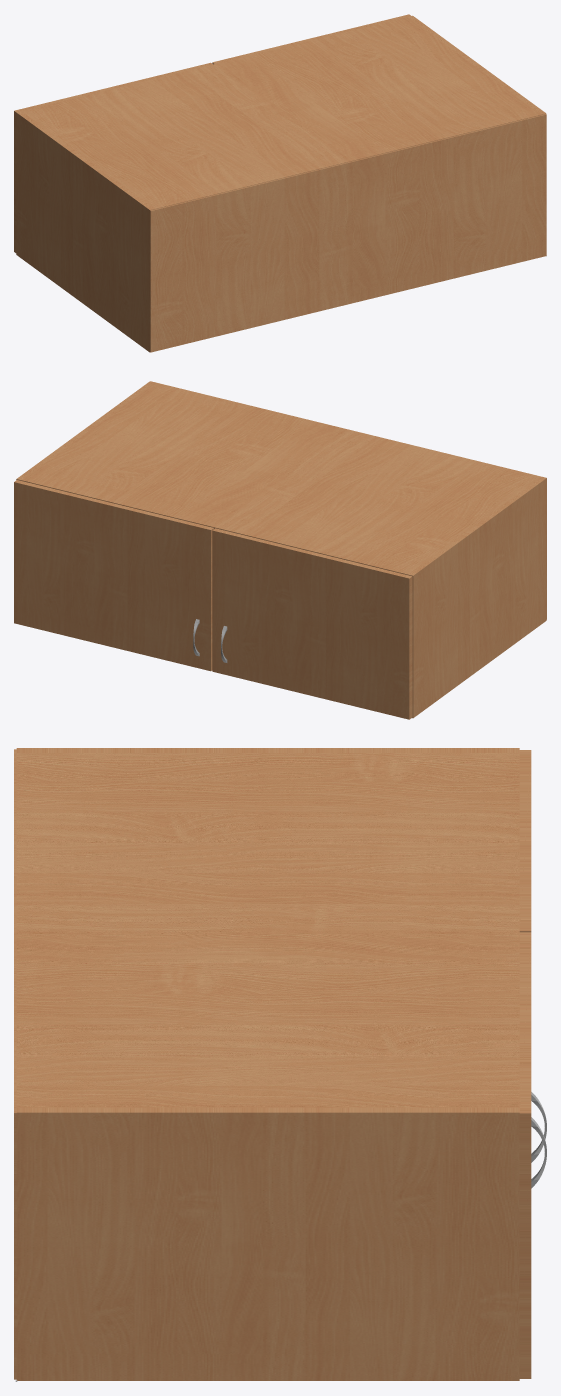
File: antresol_shkafa_pod_raskladushki_1.glb
3 renders of one model, top to bottom at view 1: azimuth 30°, elevation 25°; view 2: azimuth 150°, elevation 25°; view 3: azimuth 270°, elevation 25°, orthographic. The views are drawn at different scales.
Visible parts, largest first — view 1: Shape_IndexedFaceSet.004_NON, Shape_IndexedFaceSet.008, Shape_IndexedFaceSet.006, Shape_IndexedFaceSet.002, Shape_IndexedFaceSet.005, Shape_IndexedFaceSet; view 2: Shape_IndexedFaceSet.008, Shape_IndexedFaceSet.002, Shape_IndexedFaceSet, Shape_IndexedFaceSet.006, Shape_IndexedFaceSet.005; view 3: Shape_IndexedFaceSet.008, Shape_IndexedFaceSet.005, Shape_IndexedFaceSet, Shape_IndexedFaceSet.006, Shape_IndexedFaceSet.002, Shape_IndexedFaceSet.004_NON.
Part boxes in pixels (x1=…): Shape_IndexedFaceSet.004_NON: x1=150, y1=114, x2=546, y2=352; Shape_IndexedFaceSet.008: x1=22, y1=17, x2=540, y2=209; Shape_IndexedFaceSet.006: x1=16, y1=111, x2=154, y2=352; Shape_IndexedFaceSet.002: x1=14, y1=62, x2=212, y2=252; Shape_IndexedFaceSet.005: x1=408, y1=15, x2=546, y2=114; Shape_IndexedFaceSet: x1=212, y1=14, x2=410, y2=64; Shape_IndexedFaceSet.008: x1=21, y1=382, x2=540, y2=574; Shape_IndexedFaceSet.002: x1=212, y1=528, x2=412, y2=719; Shape_IndexedFaceSet: x1=14, y1=480, x2=213, y2=671; Shape_IndexedFaceSet.006: x1=408, y1=476, x2=546, y2=718; Shape_IndexedFaceSet.005: x1=16, y1=381, x2=154, y2=480; Shape_IndexedFaceSet.008: x1=16, y1=753, x2=519, y2=1107; Shape_IndexedFaceSet.005: x1=16, y1=1107, x2=519, y2=1380; Shape_IndexedFaceSet: x1=519, y1=932, x2=531, y2=1378; Shape_IndexedFaceSet.006: x1=16, y1=748, x2=519, y2=752; Shape_IndexedFaceSet.002: x1=519, y1=750, x2=531, y2=932; Shape_IndexedFaceSet.004_NON: x1=14, y1=749, x2=16, y2=1379.
Bounding box in the file's own units: 1201 × 413 × 741.
12 materials, 11 textured.
